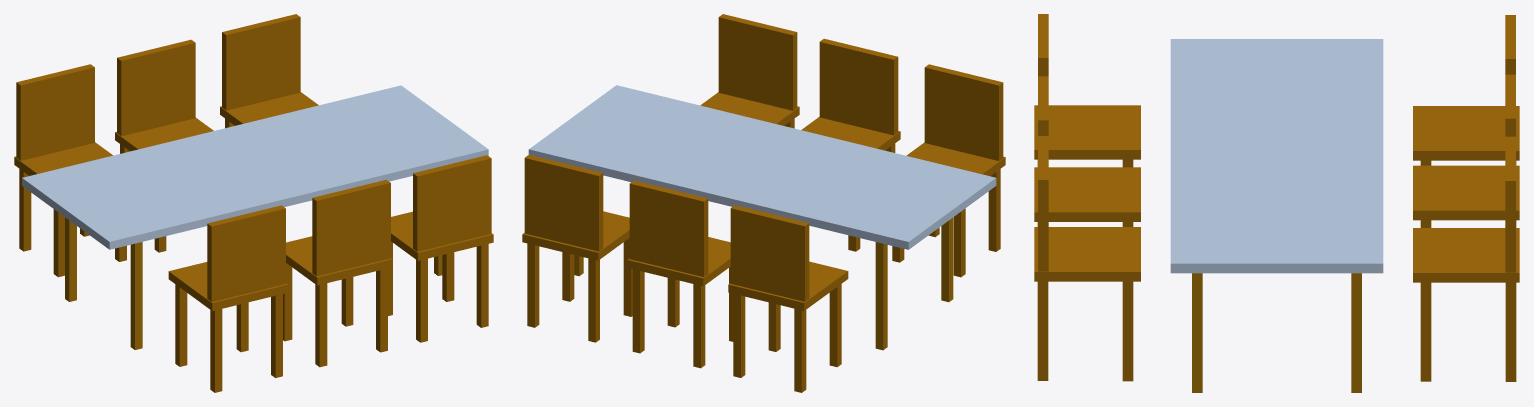
File: tableandchairs.fbx
3 renders of one model, left to right at view 1: azimuth 30°, elevation 25°; view 2: azimuth 150°, elevation 25°; view 3: azimuth 270°, elevation 25°, orthographic. The views are drawn at different scales.
Parts seen in each view (by area): view 1: Cube, Cube.003, Cube.001, Cube.002, Cube.005, Cube.006, Cube.004; view 2: Cube, Cube.005, Cube.004, Cube.006, Cube.003, Cube.001, Cube.002; view 3: Cube, Cube.004, Cube.002, Cube.006, Cube.003, Cube.001, Cube.005.
Boxes of the visible parts, left/top/right/bottom form: Cube: left=22, top=85, right=488, bottom=349; Cube.003: left=168, top=205, right=287, bottom=392; Cube.001: left=283, top=179, right=392, bottom=367; Cube.002: left=388, top=155, right=493, bottom=342; Cube.005: left=14, top=64, right=126, bottom=277; Cube.006: left=115, top=39, right=213, bottom=252; Cube.004: left=220, top=14, right=318, bottom=128; Cube: left=528, top=85, right=996, bottom=350; Cube.005: left=728, top=205, right=848, bottom=392; Cube.004: left=522, top=155, right=632, bottom=342; Cube.006: left=627, top=180, right=733, bottom=368; Cube.003: left=892, top=64, right=1005, bottom=277; Cube.001: left=801, top=38, right=900, bottom=251; Cube.002: left=700, top=14, right=799, bottom=128; Cube: left=1170, top=39, right=1383, bottom=392; Cube.004: left=1413, top=136, right=1519, bottom=381; Cube.002: left=1034, top=136, right=1140, bottom=381; Cube.006: left=1413, top=74, right=1519, bottom=227; Cube.003: left=1034, top=14, right=1140, bottom=167; Cube.001: left=1034, top=76, right=1140, bottom=226; Cube.005: left=1413, top=15, right=1519, bottom=165.
Bounding box in the file's own units: 1000 × 421 × 912.
